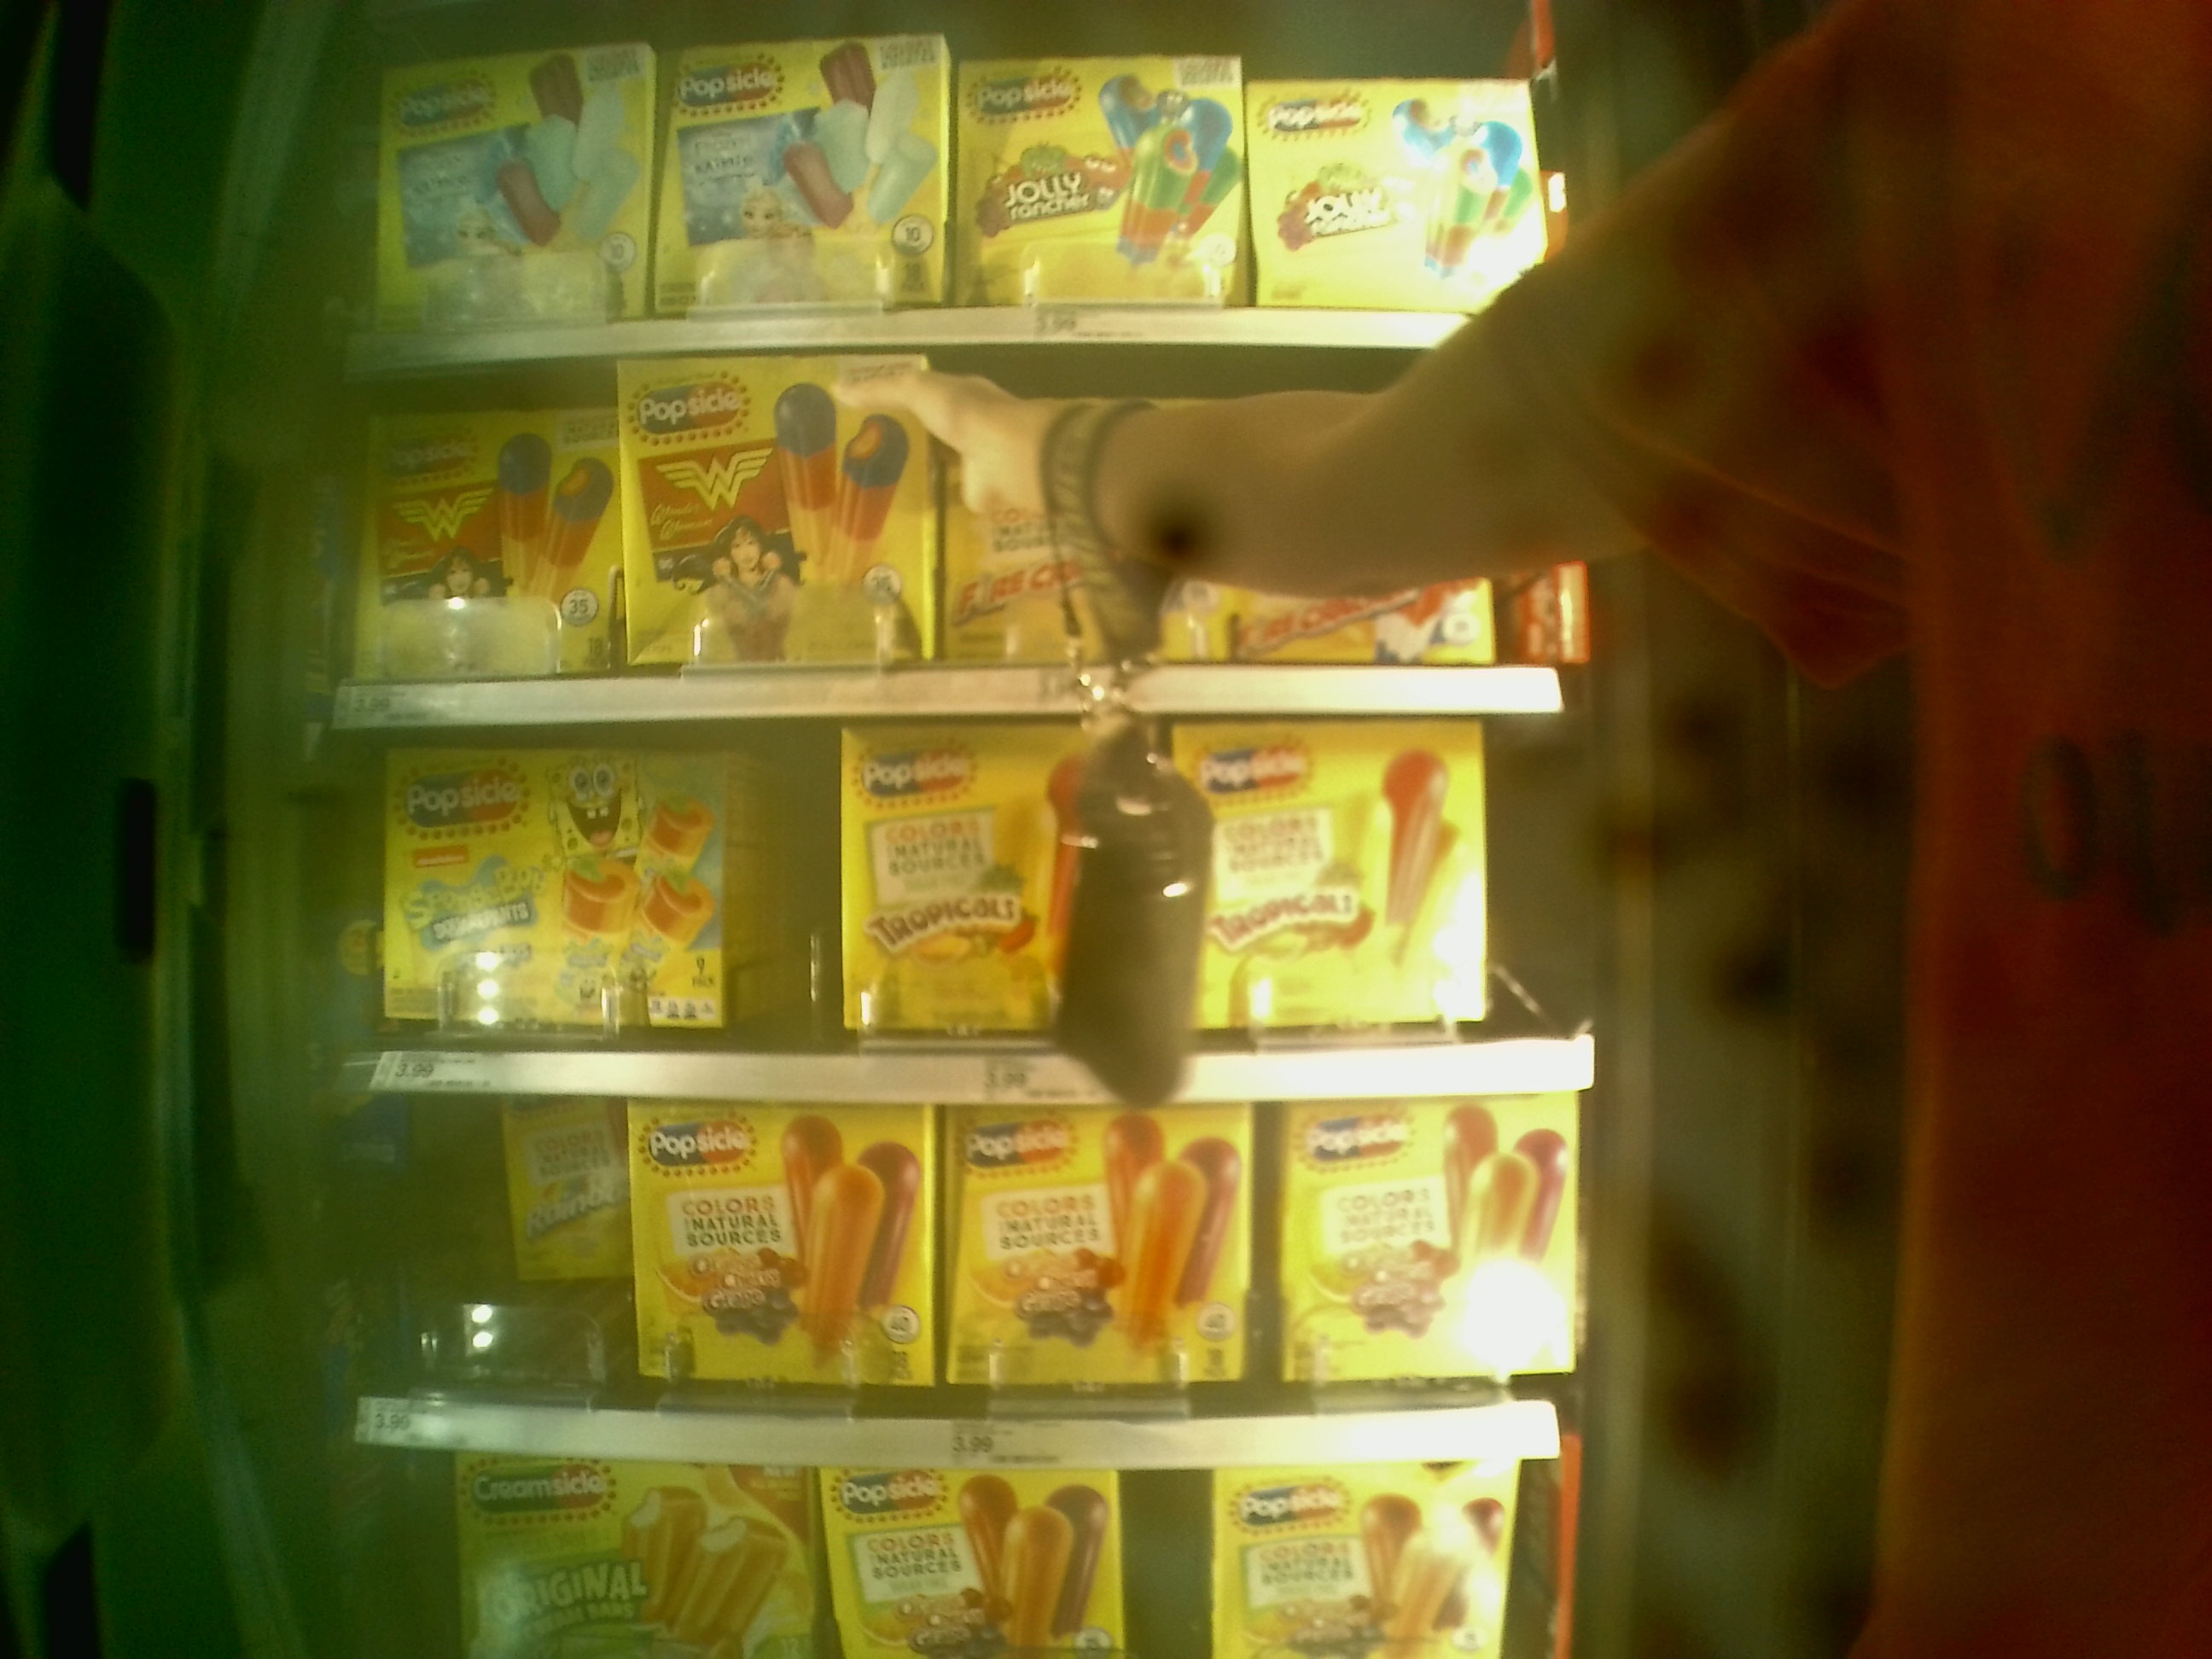frozen-food-shelf: (320, 1100, 1615, 1474), (324, 728, 1609, 1098)
